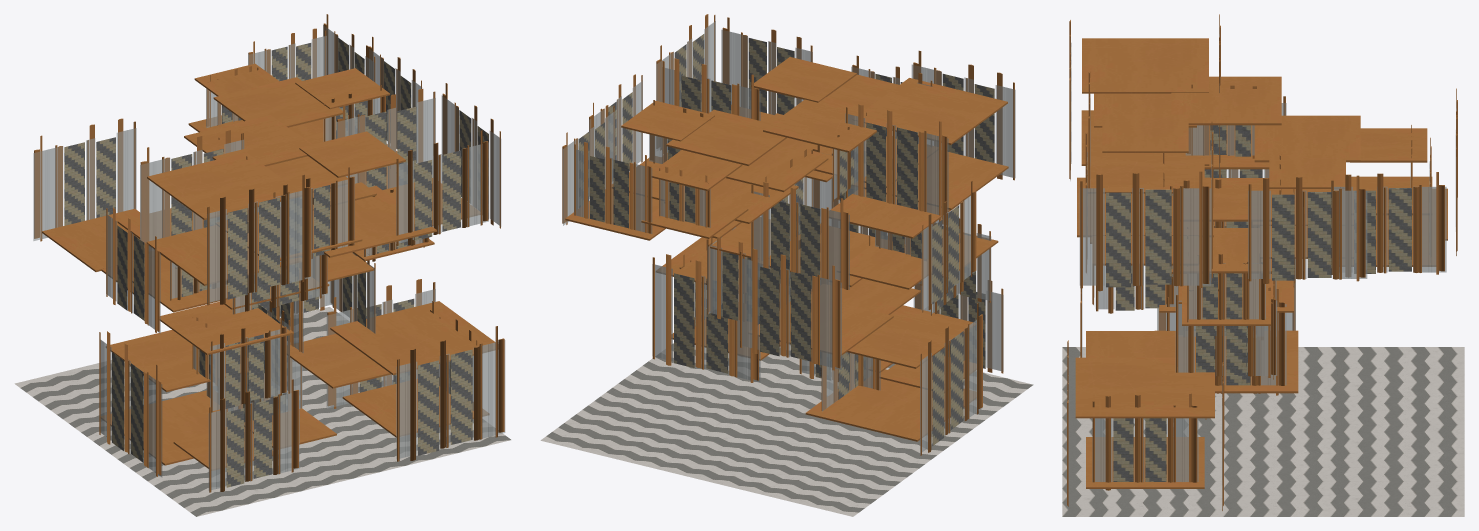
The model's file is Pav_23.glb.
The picture shows the model from 3 angles, left to right: view 1: azimuth 30°, elevation 25°; view 2: azimuth 150°, elevation 25°; view 3: azimuth 270°, elevation 25°; orthographic projection. The views are drawn at different scales.
Parts seen in each view (by area): view 1: floor, Dark, Glaze, Metal1, GroundPlan, Metal2; view 2: floor, GroundPlan, Dark, Glaze, Metal1, Metal2; view 3: floor, GroundPlan, Glaze, Dark, Metal1, Metal2.
Part boxes in pixels (<box>): floor: <box>42,63,495,470</box>; Dark: <box>33,25,505,490</box>; Glaze: <box>64,38,488,487</box>; Metal1: <box>34,23,504,491</box>; GroundPlan: <box>14,307,510,516</box>; Metal2: <box>40,14,500,492</box>; floor: <box>565,57,1008,441</box>; GroundPlan: <box>540,343,1033,516</box>; Dark: <box>563,21,1015,453</box>; Glaze: <box>578,34,994,445</box>; Metal1: <box>562,14,1002,452</box>; Metal2: <box>566,15,1014,455</box>; floor: <box>1075,38,1447,488</box>; GroundPlan: <box>1062,347,1464,516</box>; Glaze: <box>1071,43,1429,481</box>; Dark: <box>1068,34,1456,491</box>; Metal1: <box>1067,20,1457,505</box>; Metal2: <box>1068,14,1456,510</box>.
Size of the model in its own units: 16 by 15.13 by 16.
Materials: 4 (3 with a texture image).
